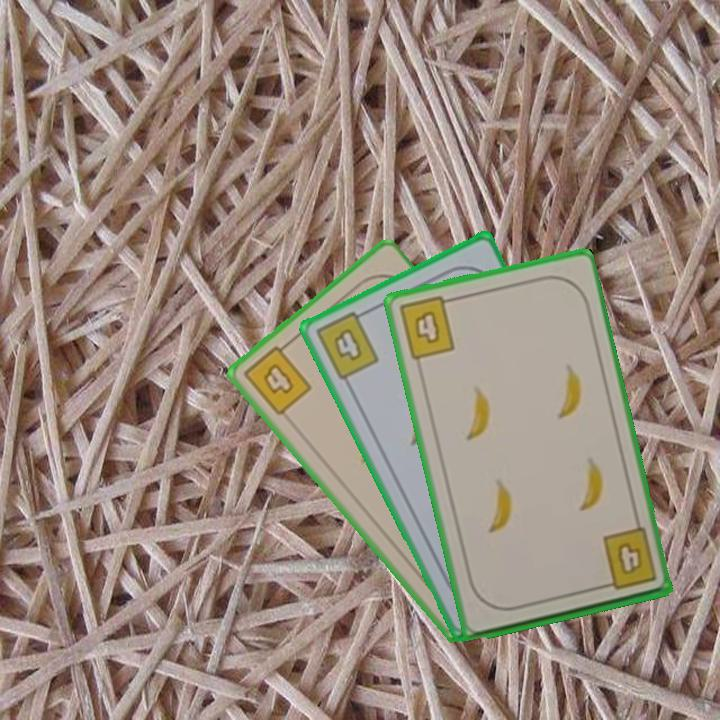4b: (239, 337, 314, 419), (311, 306, 382, 383), (595, 524, 660, 593), (394, 293, 458, 363)
